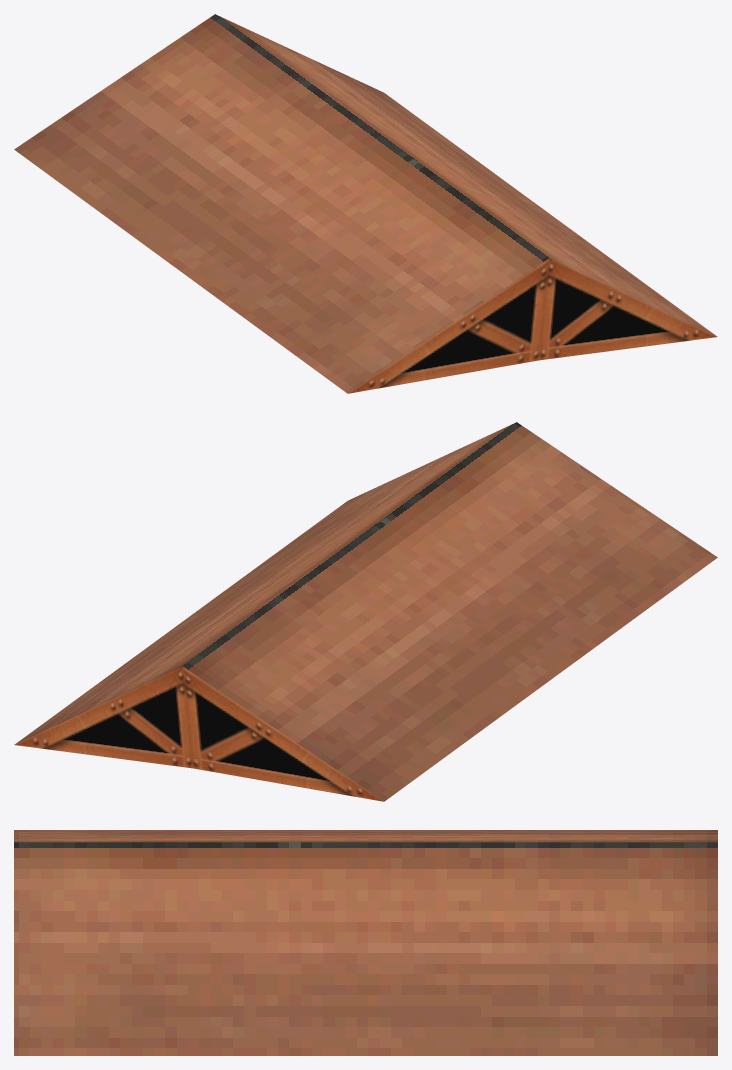
The model's file is truss.glb.
3 renders of one model, top to bottom at view 1: azimuth 30°, elevation 25°; view 2: azimuth 150°, elevation 25°; view 3: azimuth 270°, elevation 25°, orthographic. The views are drawn at different scales.
Visible parts, largest first — view 1: truss; view 2: truss; view 3: truss.
Boxes of the visible parts, x1,y1,x2,y2 form: truss: (14,14,717,393); truss: (14,422,717,801); truss: (14,830,717,1055).
Bounding box in the file's own units: 841 × 260 × 1314.
2 materials, 2 textured.
